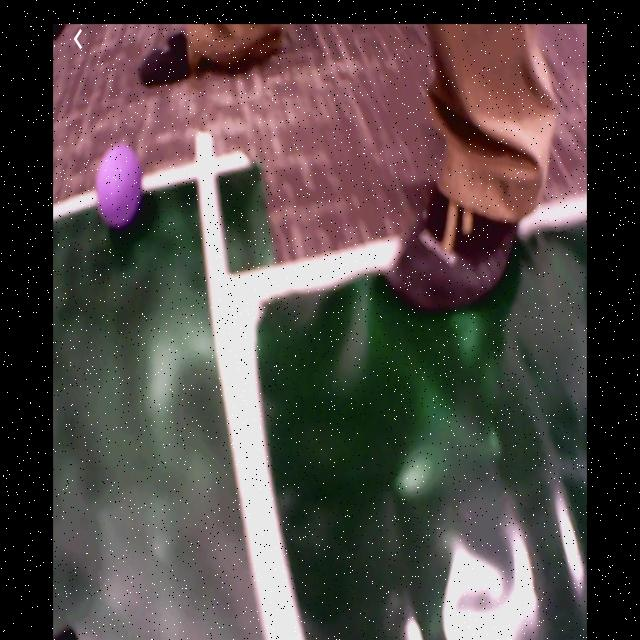ball: (98, 145, 144, 229)
